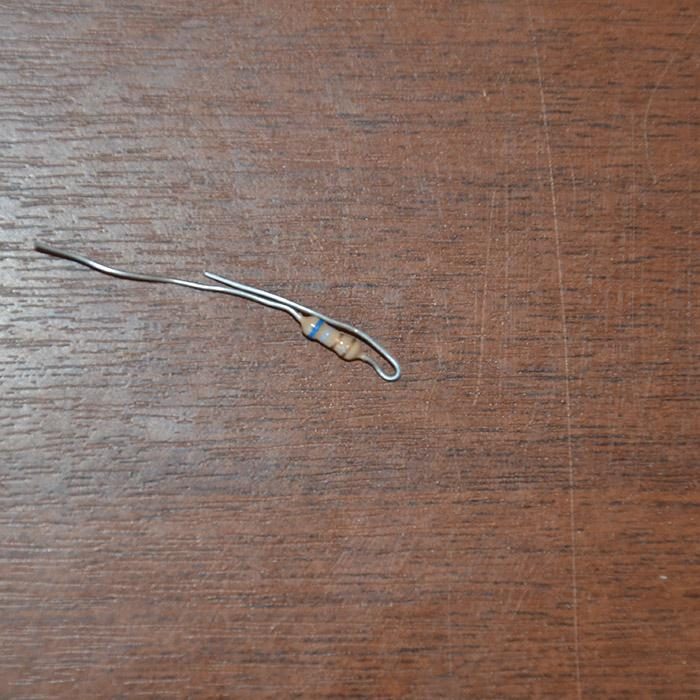resistor: (295, 309, 381, 371)
